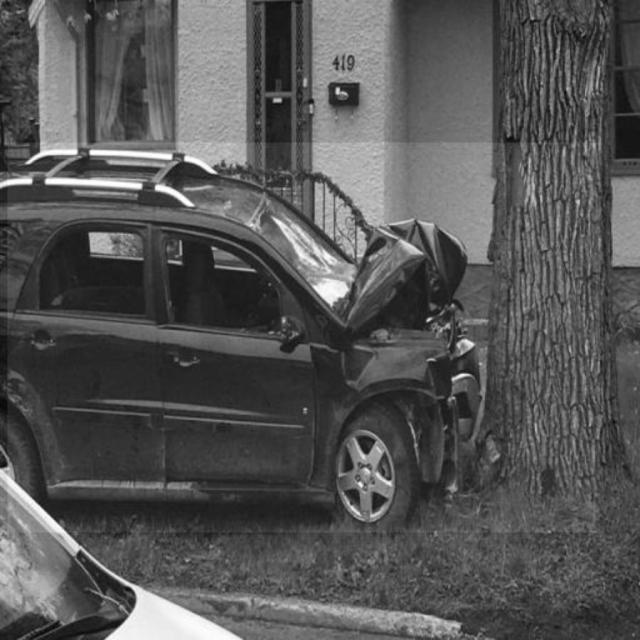accident: (7, 143, 599, 533)
